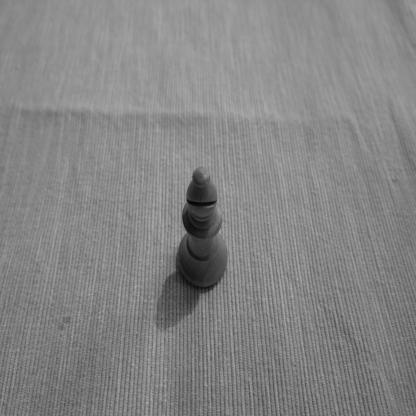white-bishop: (176, 166, 229, 290)
